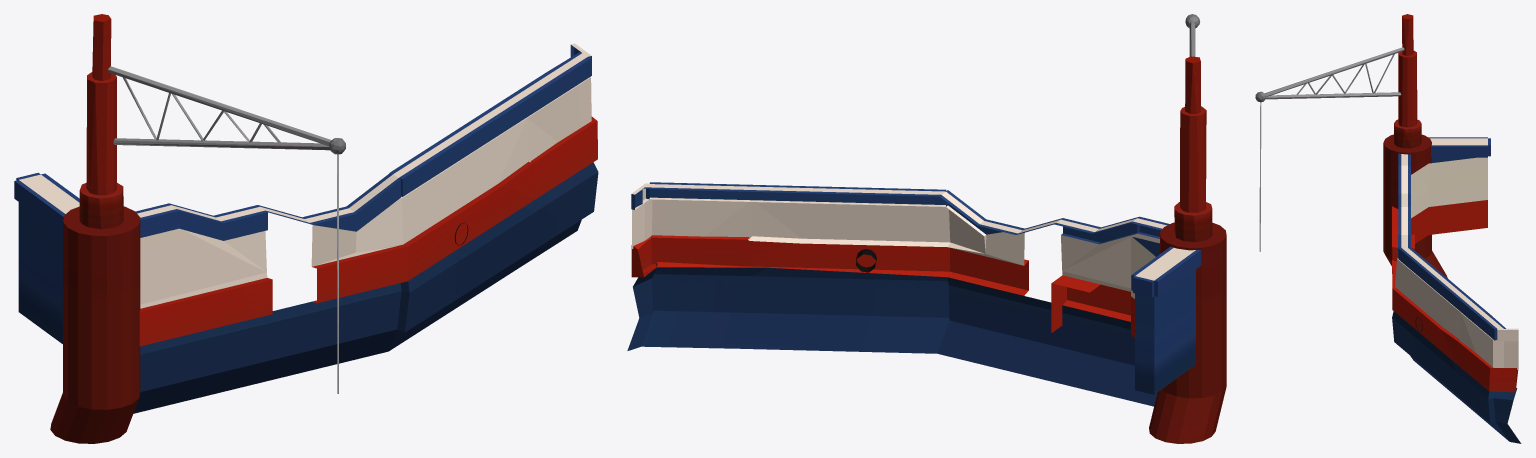
Rendered from Lateral_Esquerda.glb.
3 renders of one model, left to right at view 1: azimuth 30°, elevation 25°; view 2: azimuth 150°, elevation 25°; view 3: azimuth 270°, elevation 25°, orthographic. The views are drawn at different scales.
Visible parts, largest first — view 1: Lateral_Esquerda; view 2: Lateral_Esquerda; view 3: Lateral_Esquerda.
Boxes of the visible parts, <box> form: Lateral_Esquerda: <box>14,14,598,443</box>; Lateral_Esquerda: <box>627,14,1226,443</box>; Lateral_Esquerda: <box>1255,14,1521,443</box>.
Bounding box in the file's own units: 26.96 × 18.05 × 16.62.
1 material, 1 textured.
